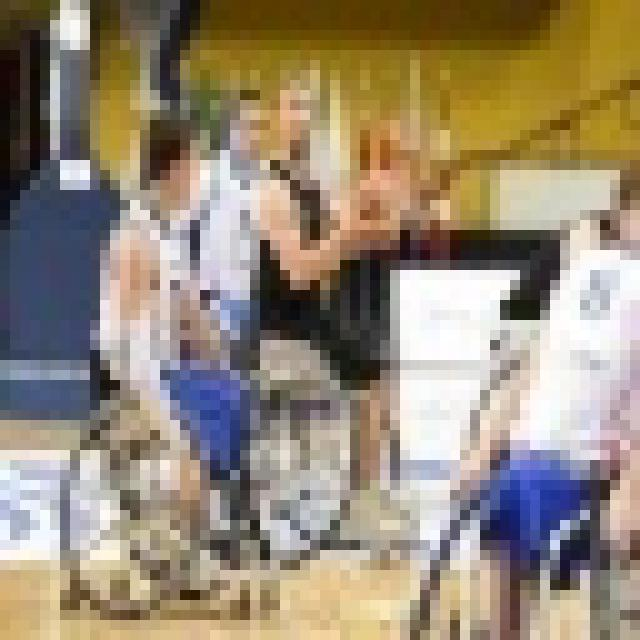wheelchairs: (62, 318, 352, 621), (417, 349, 640, 640)
